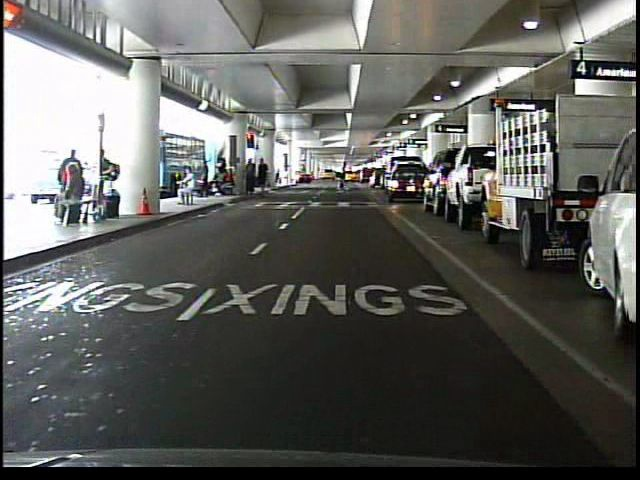person: (174, 170, 201, 210), (332, 160, 354, 193)
